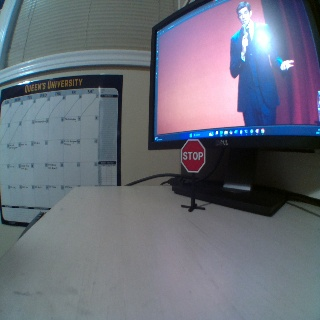sign_stop: (180, 139, 204, 171)
